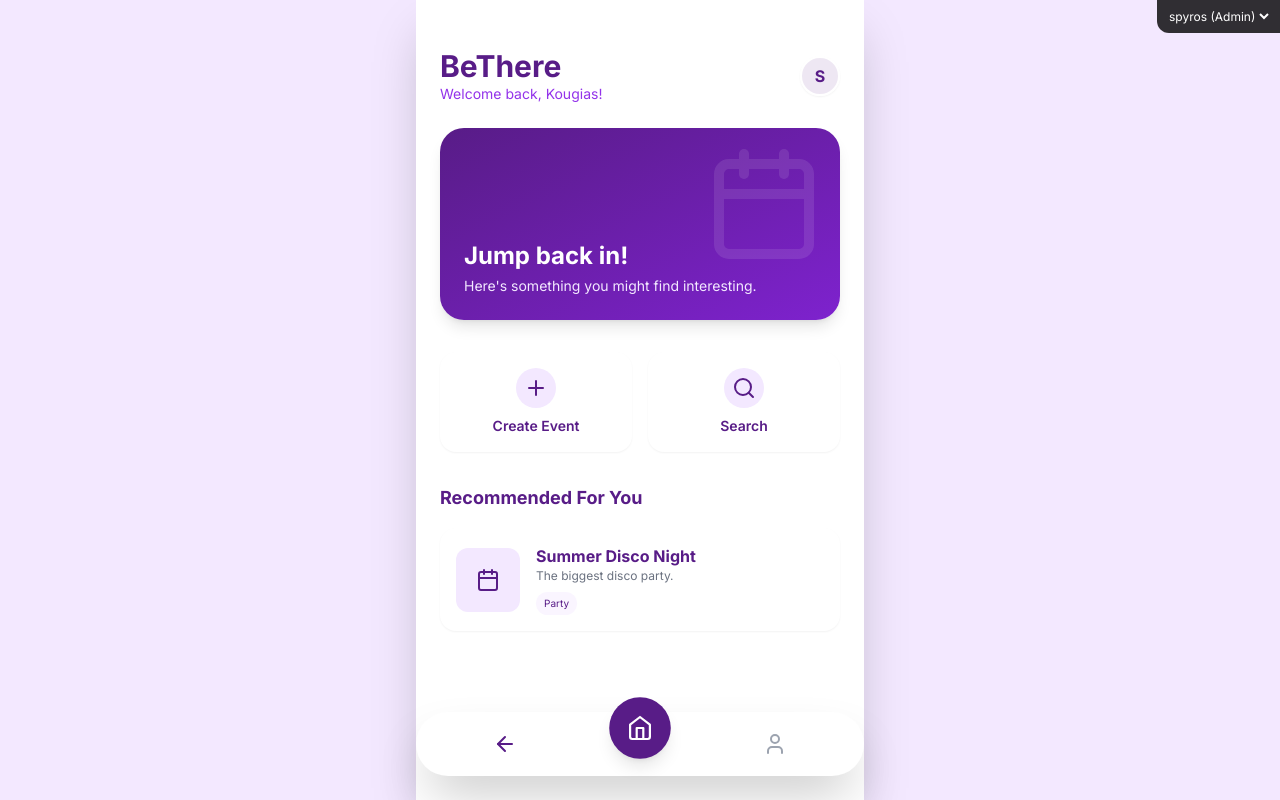
Test: Deliverable 2: User Flows (Frontend Only) › Flow 2 (Happy): User searches for a user and follows them
Expected: the heading "BeThere" is shown, [440,48,561,84]
Expected: the text with test id "Hello-User" shows "Welcome back", [440,84,602,104]
Navigate to Search
Step 1. Click the button with test id "Button-To-Search" → (744, 402), box [648,352,840,452]
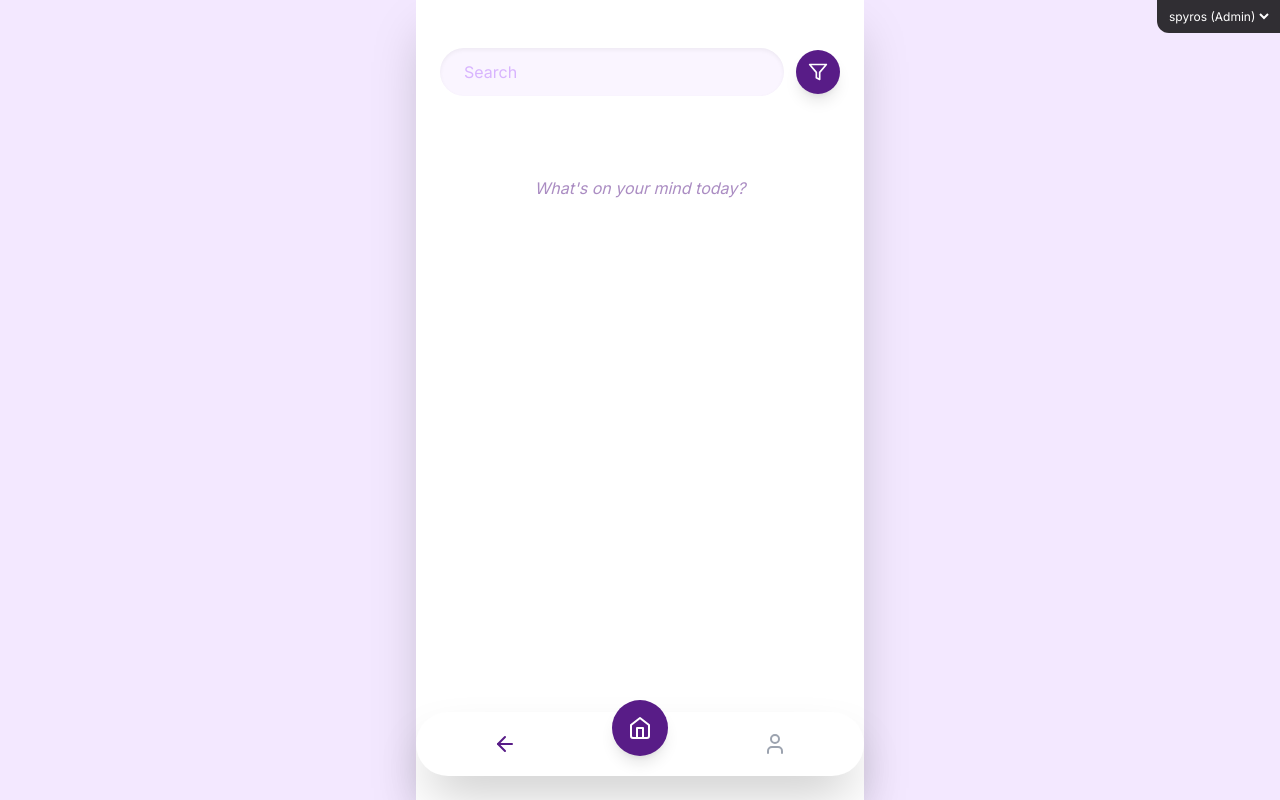
Type Name and Press ENTER
Step 2. Type "giannis" into the field with placeholder "Search" → (612, 72), box [440,48,784,96]
Then press Enter
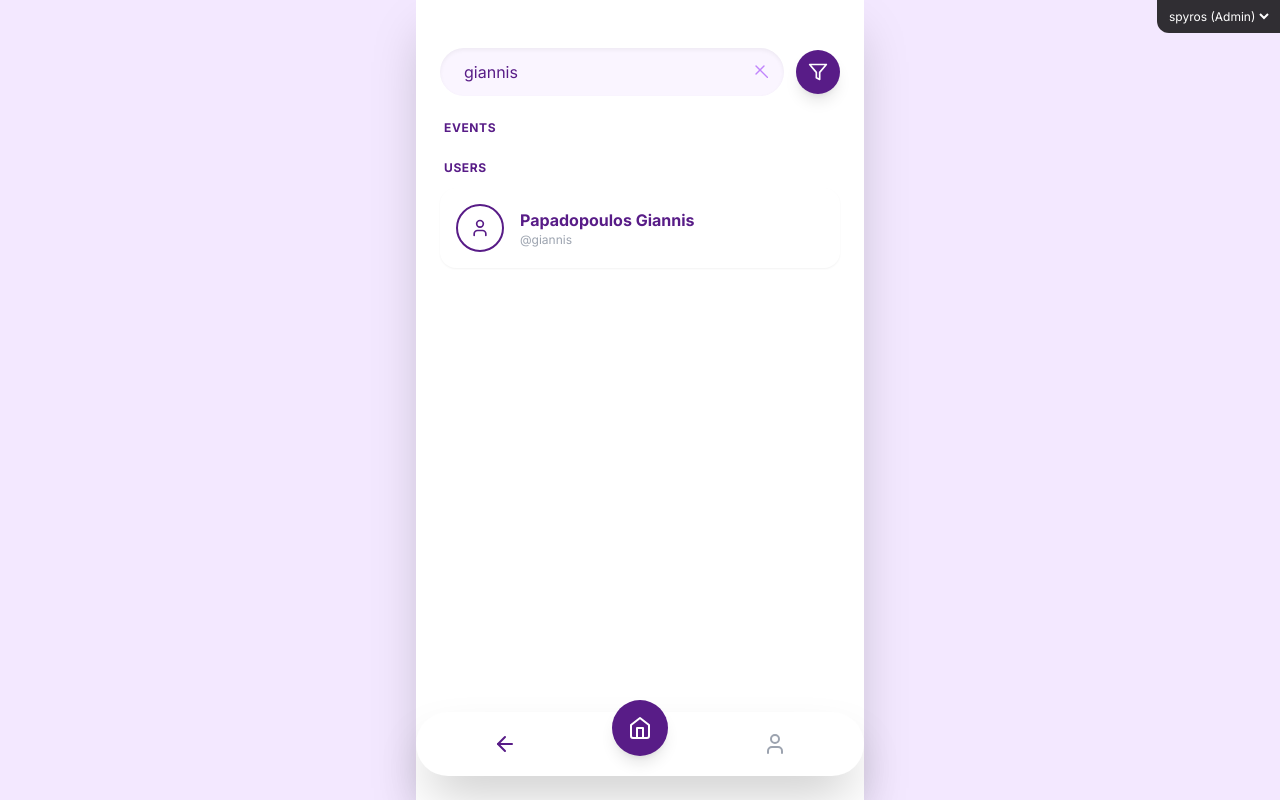
Result: the heading "Papadopoulos Giannis" is shown
Step 3. Click the heading "Papadopoulos Giannis" → (608, 220), box [520,208,695,232]
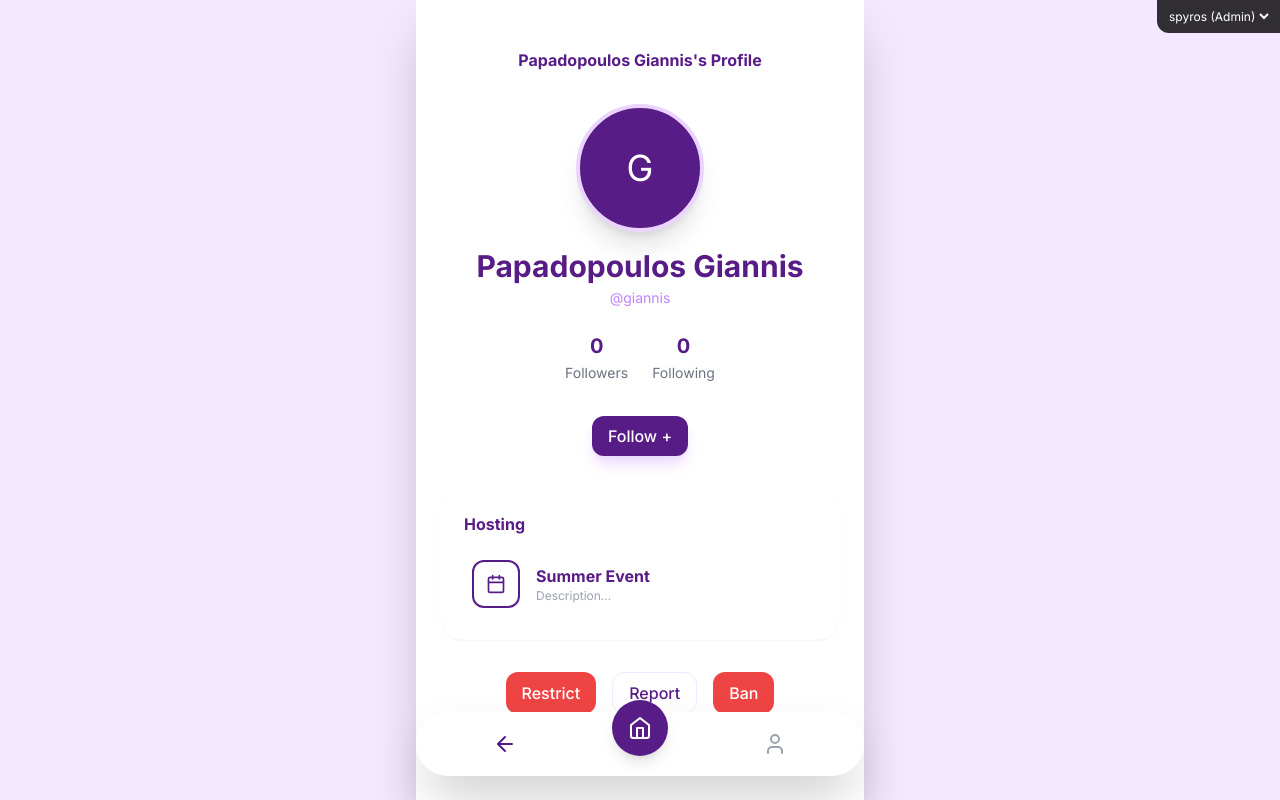
Result: the text "Papadopoulos Giannis's Profile" is shown at [518,50,762,70]
Step 4. Click the button "Follow +" → (640, 436), box [592,416,688,456]
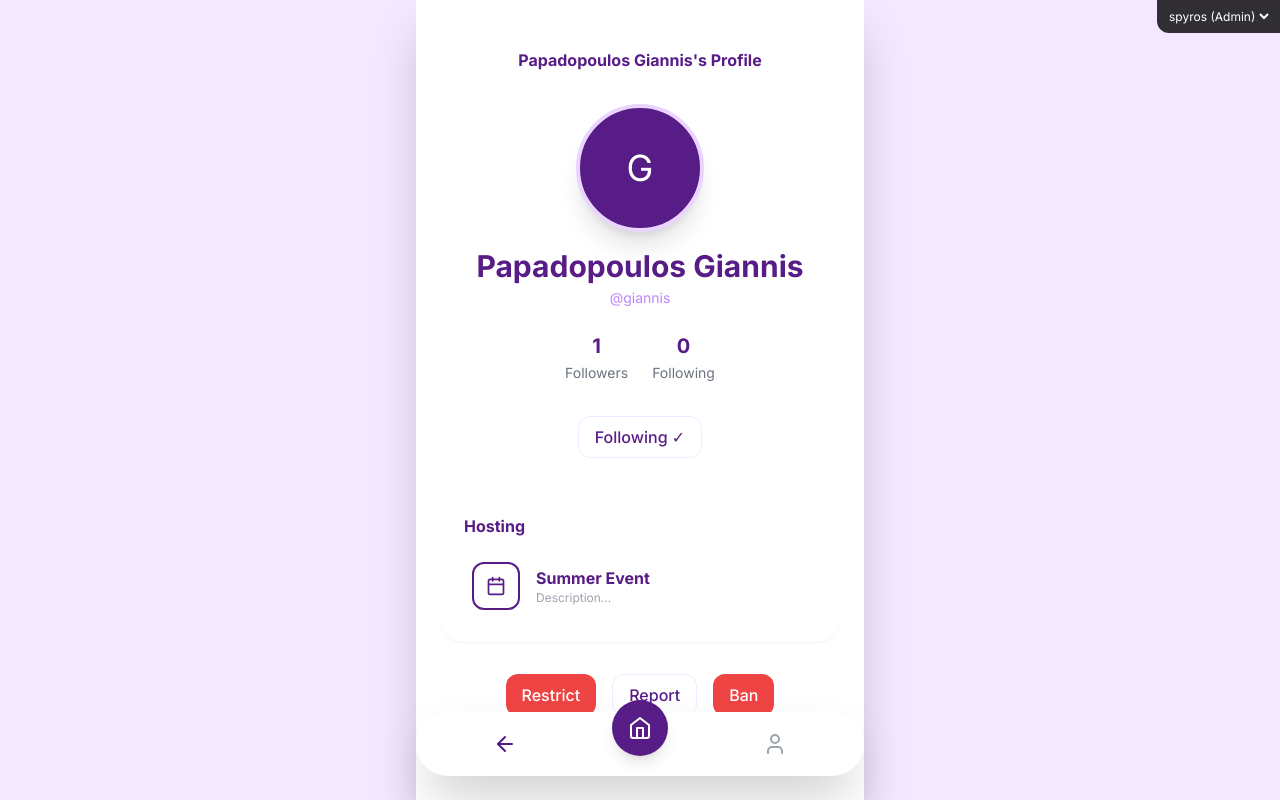
Result: the button "Following ✓" is shown at [578,416,702,458]
